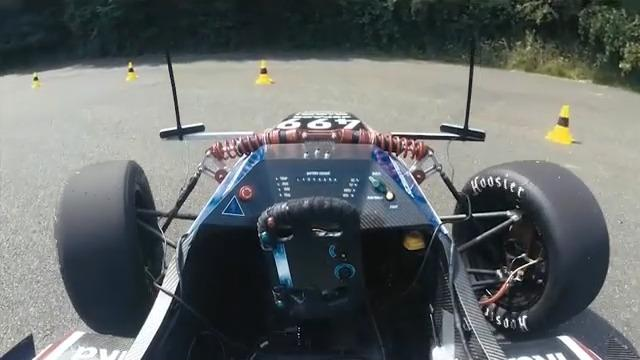yellow_cone: (541, 103, 578, 145), (254, 61, 275, 85), (125, 60, 140, 80), (31, 73, 43, 89)
